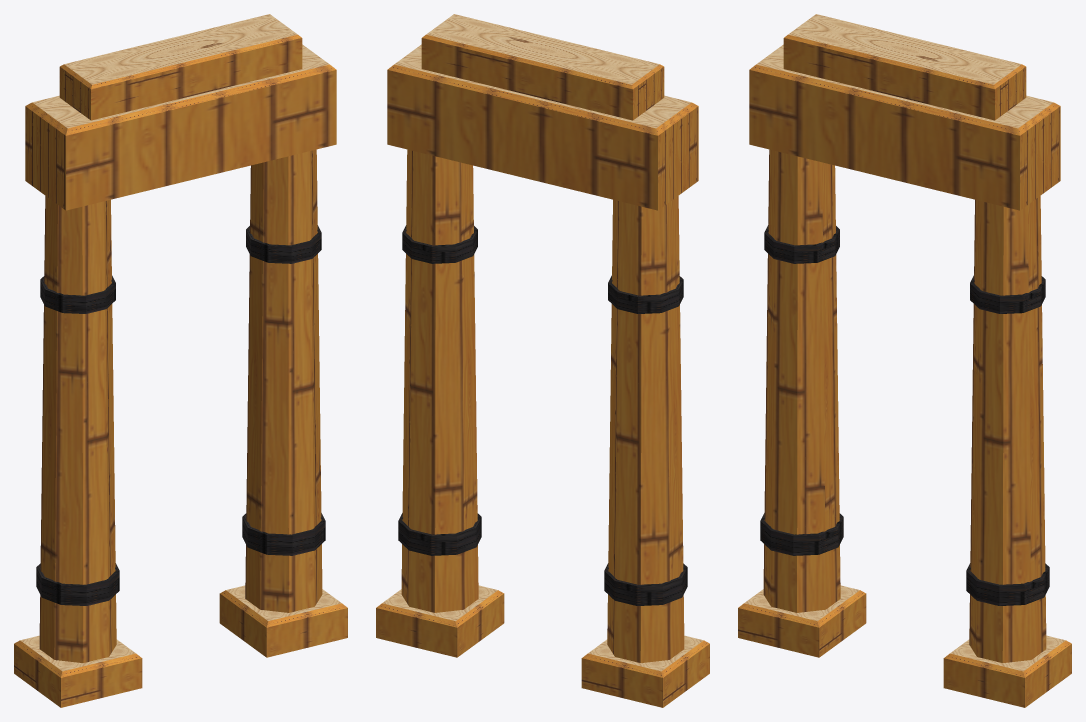
File: gate.obj
3 views of the same model, side by side, from view 1: azimuth 30°, elevation 25°; view 2: azimuth 150°, elevation 25°; view 3: azimuth 330°, elevation 25° (orthographic).
Visible parts, largest first — view 1: Gate; view 2: Gate; view 3: Gate.
Part boxes in pixels (box(x1,y1,x2,y2)): Gate: box(14, 14, 347, 707); Gate: box(376, 14, 709, 707); Gate: box(738, 14, 1071, 707).
Size of the model in its own units: 1.06 by 2.14 by 0.3.
1 material, 1 textured.
